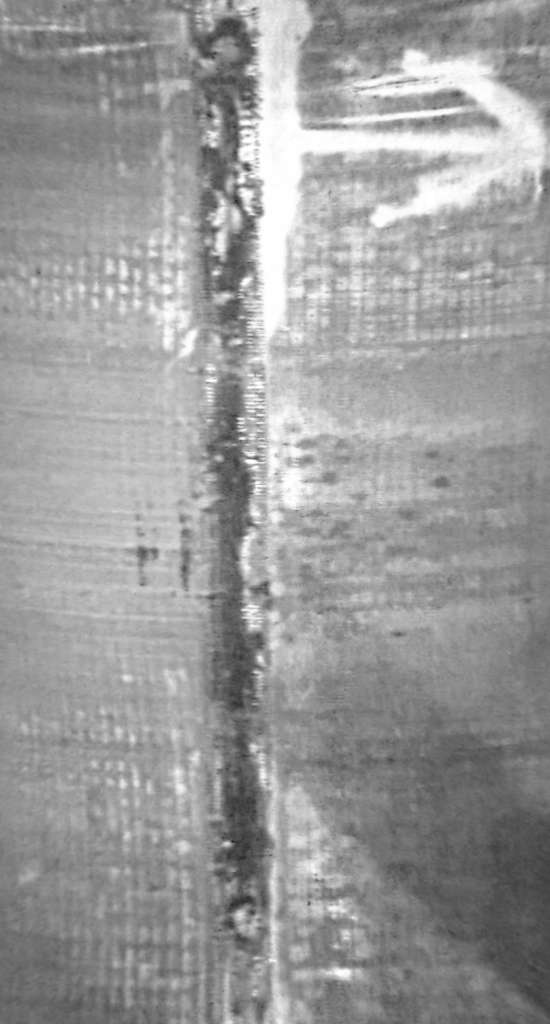splice: (182, 1, 294, 1024)
